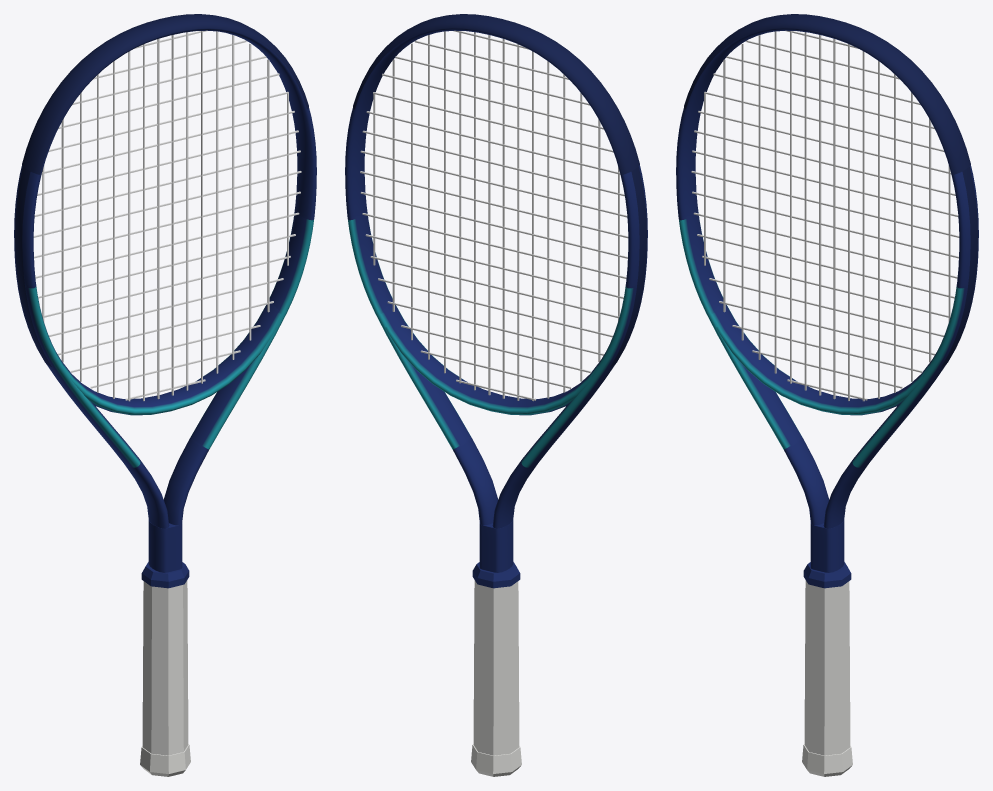
File: prince-premier-110.glb
The picture shows the model from 3 angles, left to right: view 1: azimuth 30°, elevation 25°; view 2: azimuth 150°, elevation 25°; view 3: azimuth 330°, elevation 25°; orthographic projection.
Parts seen in each view (by area): view 1: frame, strings_mains, strings_crosses, grip, bumper, grommets, butt_cap, collar; view 2: frame, strings_mains, strings_crosses, grip, bumper, grommets, butt_cap, collar; view 3: frame, strings_mains, strings_crosses, grip, bumper, grommets, butt_cap, collar.
Part boxes in pixels (bbox=[...]): frame: bbox=[14, 28, 316, 572]; strings_mains: bbox=[42, 31, 288, 401]; strings_crosses: bbox=[33, 30, 301, 400]; grip: bbox=[142, 580, 188, 755]; bumper: bbox=[22, 14, 308, 174]; grommets: bbox=[15, 166, 51, 366]; butt_cap: bbox=[140, 744, 190, 776]; collar: bbox=[141, 562, 189, 588]; frame: bbox=[345, 28, 647, 572]; strings_mains: bbox=[373, 31, 619, 401]; strings_crosses: bbox=[360, 30, 628, 400]; grip: bbox=[473, 580, 519, 755]; bumper: bbox=[353, 14, 639, 174]; grommets: bbox=[610, 166, 646, 366]; butt_cap: bbox=[471, 744, 521, 776]; collar: bbox=[472, 562, 520, 588]; frame: bbox=[676, 28, 978, 572]; strings_mains: bbox=[704, 31, 950, 401]; strings_crosses: bbox=[691, 30, 959, 400]; grip: bbox=[804, 580, 850, 755]; bumper: bbox=[684, 14, 970, 174]; grommets: bbox=[941, 166, 977, 366]; butt_cap: bbox=[802, 744, 852, 776]; collar: bbox=[803, 562, 851, 588].
Size of the model in its own units: 0.2837 by 0.6861 by 0.0396.
